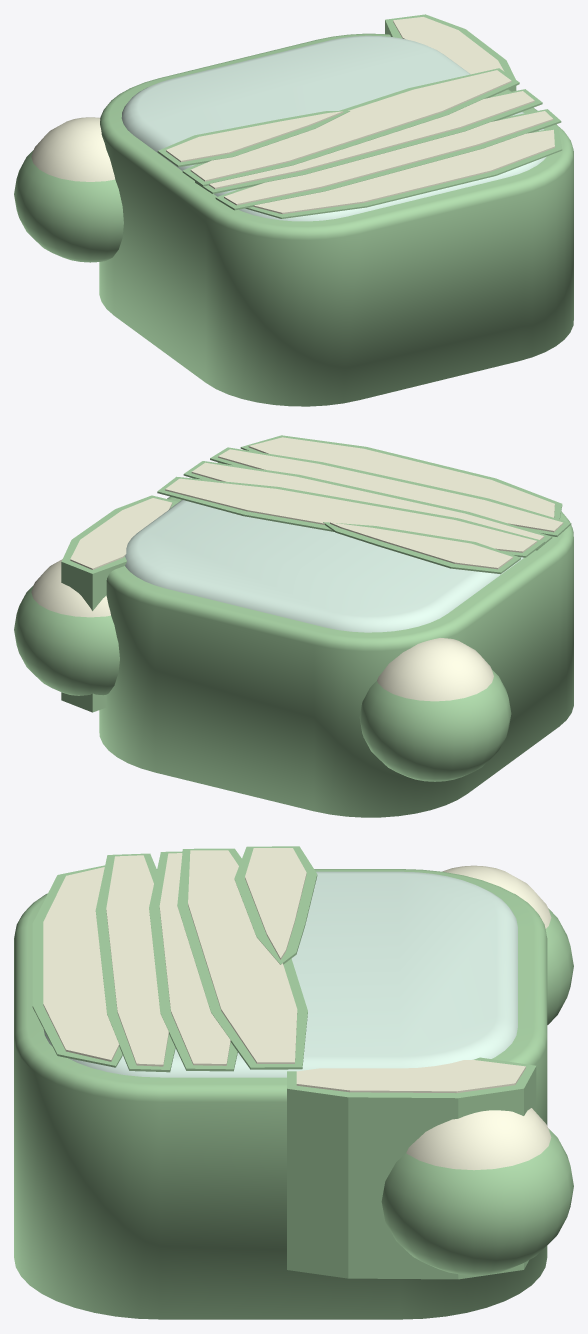
The model's file is body_mumia.fbx.
The picture shows the model from 3 angles, top to bottom: view 1: azimuth 30°, elevation 25°; view 2: azimuth 150°, elevation 25°; view 3: azimuth 270°, elevation 25°; orthographic projection. The views are drawn at different scales.
Parts seen in each view (by area): view 1: body_mumia_corpo, body_mumia_mao_esq; view 2: body_mumia_corpo, body_mumia_mao_esq, body_mumia_mao; view 3: body_mumia_corpo, body_mumia_mao, body_mumia_mao_esq.
Part boxes in pixels (left/top/right/bottom): body_mumia_corpo: left=99, top=14, right=573, bottom=406; body_mumia_mao_esq: left=14, top=117, right=123, bottom=262; body_mumia_corpo: left=61, top=435, right=573, bottom=817; body_mumia_mao_esq: left=359, top=638, right=511, bottom=781; body_mumia_mao: left=14, top=559, right=119, bottom=695; body_mumia_corpo: left=14, top=846, right=547, bottom=1319; body_mumia_mao: left=381, top=1108, right=573, bottom=1275; body_mumia_mao_esq: left=442, top=865, right=573, bottom=1024.
Size of the model in its own units: 5.4 by 2.09 by 4.2.
Materials: 1 (1 with a texture image).
